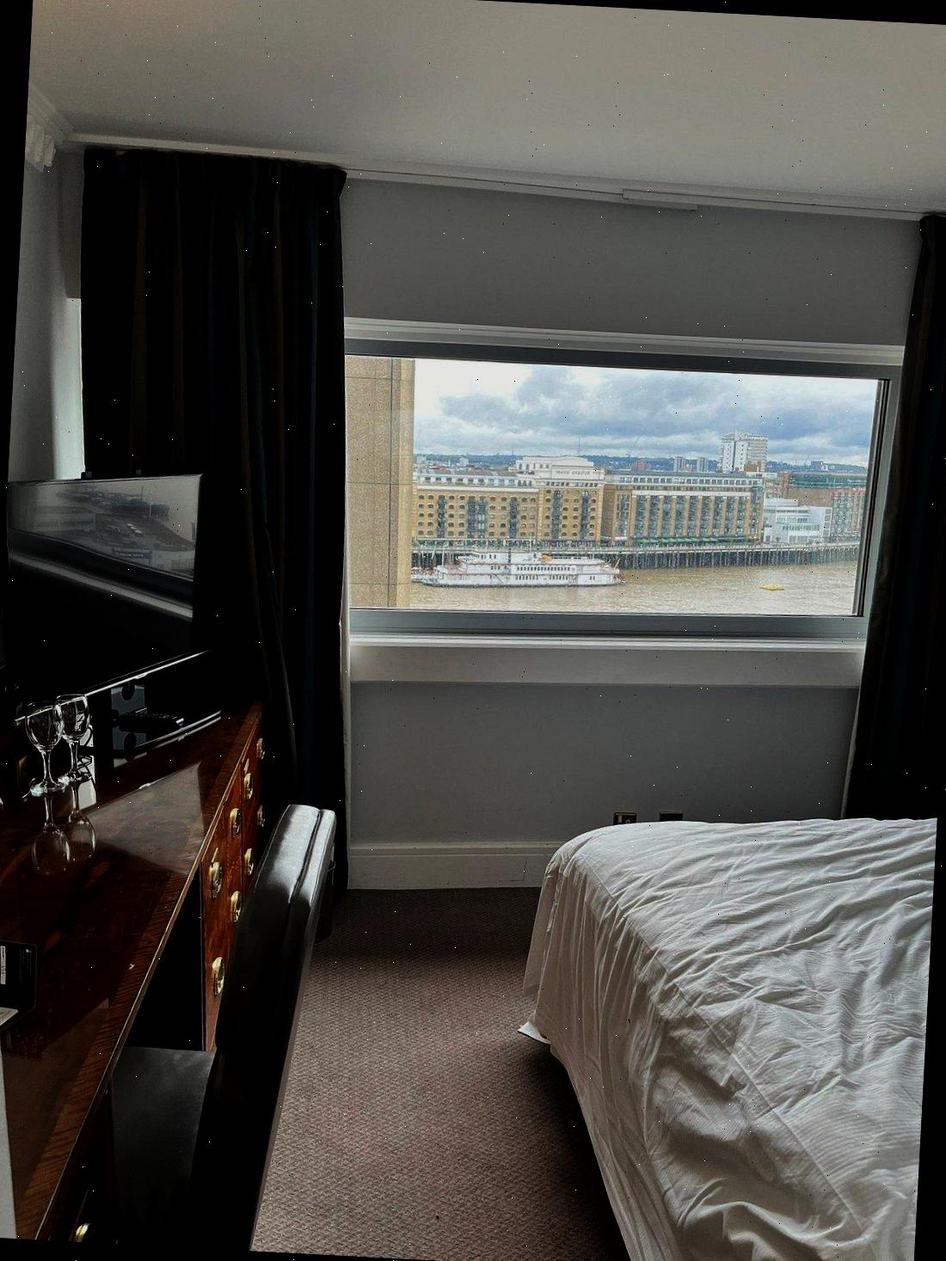chair: (84, 802, 334, 1250)
messy_bed: (508, 806, 931, 1261)
organized table: (0, 673, 263, 1249)
